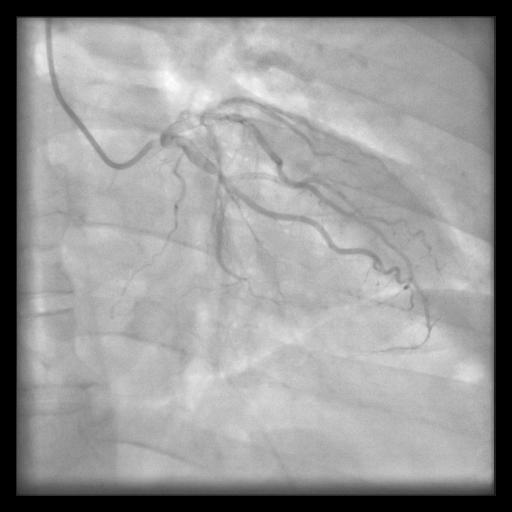Stenosis: (215, 165, 220, 181)
